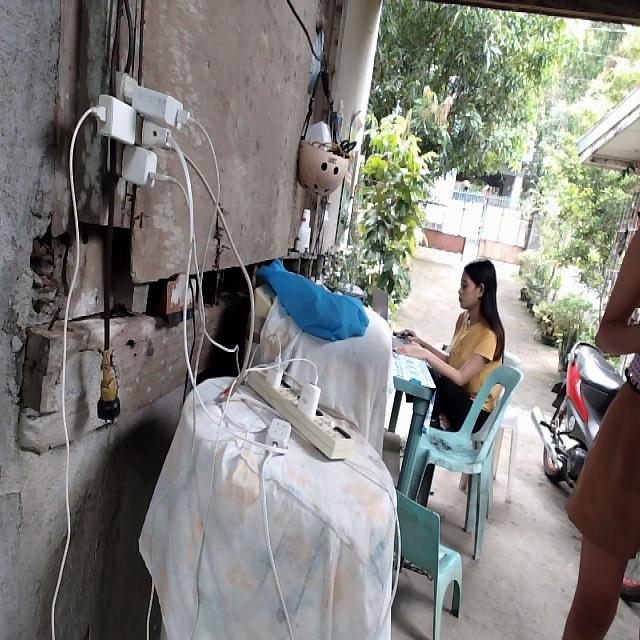-: (87, 70, 194, 186)
